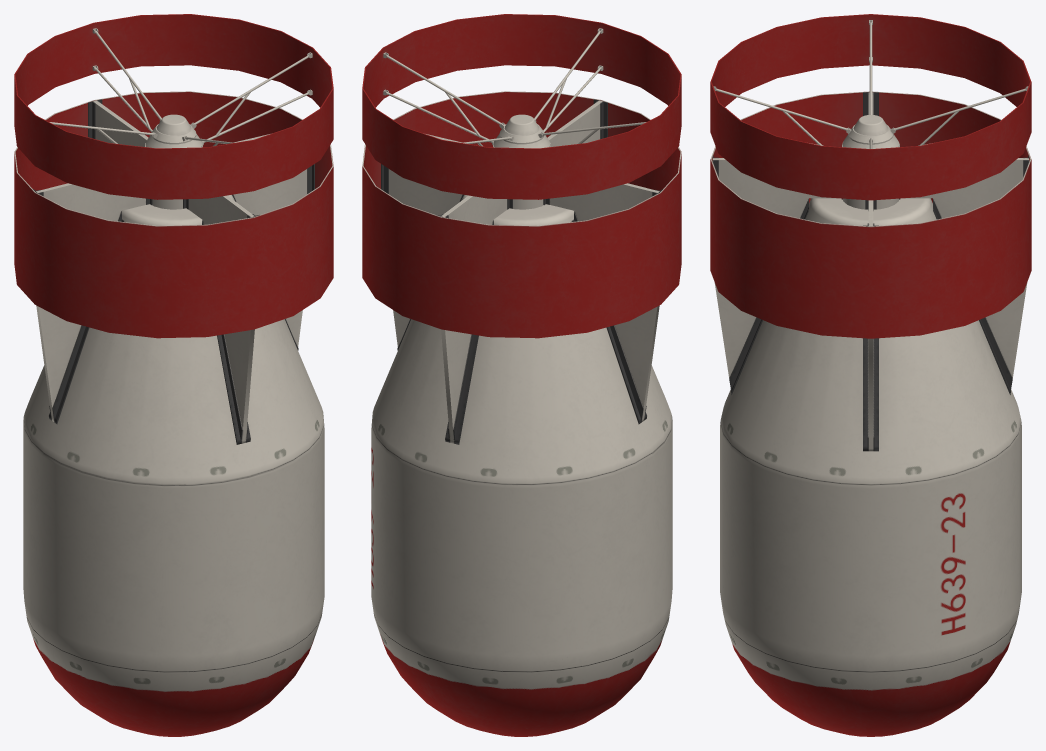
File: qingdan.fbx
3 renders of one model, left to right at view 1: azimuth 30°, elevation 25°; view 2: azimuth 150°, elevation 25°; view 3: azimuth 270°, elevation 25°, orthographic.
Visible parts, largest first — view 1: qingdan; view 2: qingdan; view 3: qingdan.
Boxes of the visible parts, bbox=[...] form: qingdan: bbox=[14, 14, 333, 736]; qingdan: bbox=[362, 14, 681, 736]; qingdan: bbox=[710, 14, 1031, 736].
Size of the model in its own units: 66.75 by 147 by 66.75.
